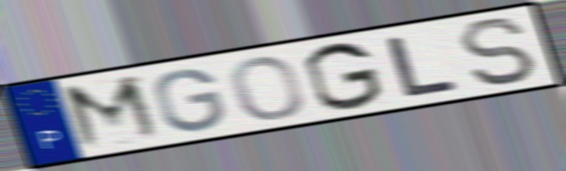G: (301, 40, 387, 113), (151, 67, 229, 134)
L: (382, 34, 462, 100)
M: (57, 72, 169, 154)
O: (227, 54, 308, 122)
S: (454, 15, 541, 89)
